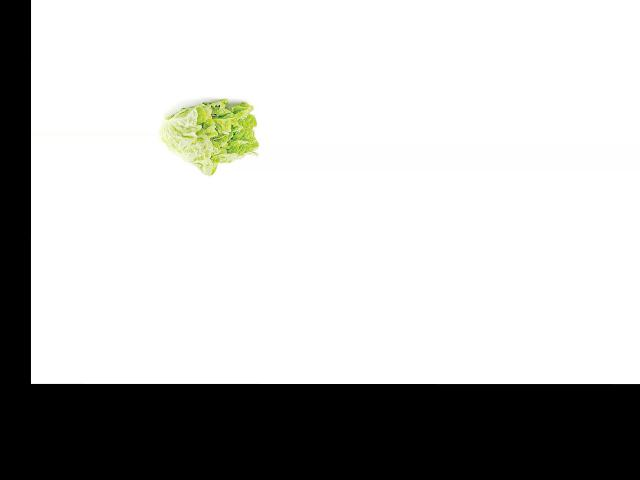lettuce: (159, 93, 258, 174)
